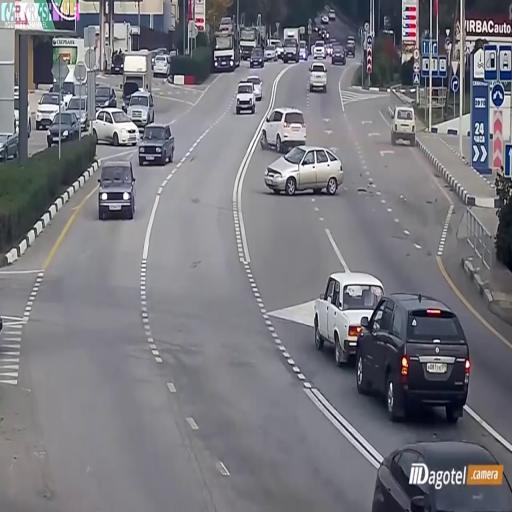小汽车: (355, 295, 469, 425), (314, 272, 387, 359), (264, 145, 345, 197), (260, 101, 308, 156), (92, 110, 140, 152), (123, 54, 153, 116), (100, 162, 134, 216), (140, 124, 174, 166), (37, 87, 65, 133), (49, 114, 80, 148), (393, 105, 416, 147), (128, 92, 152, 132), (215, 33, 239, 70), (69, 91, 89, 132), (239, 27, 263, 60), (92, 84, 118, 111), (235, 81, 255, 114), (308, 64, 329, 95), (281, 29, 299, 64), (152, 53, 172, 80), (331, 43, 346, 69), (250, 50, 265, 70), (314, 40, 325, 60)
